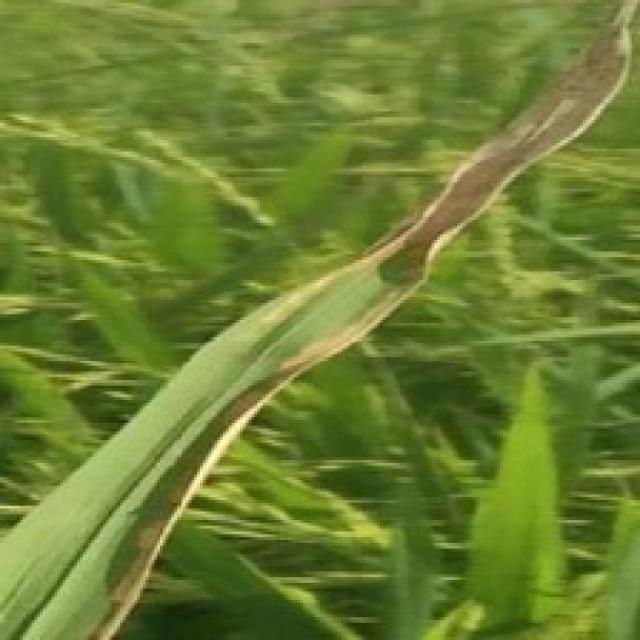Rice___Bacterial_Leaf_Blight: (0, 0, 637, 637)
